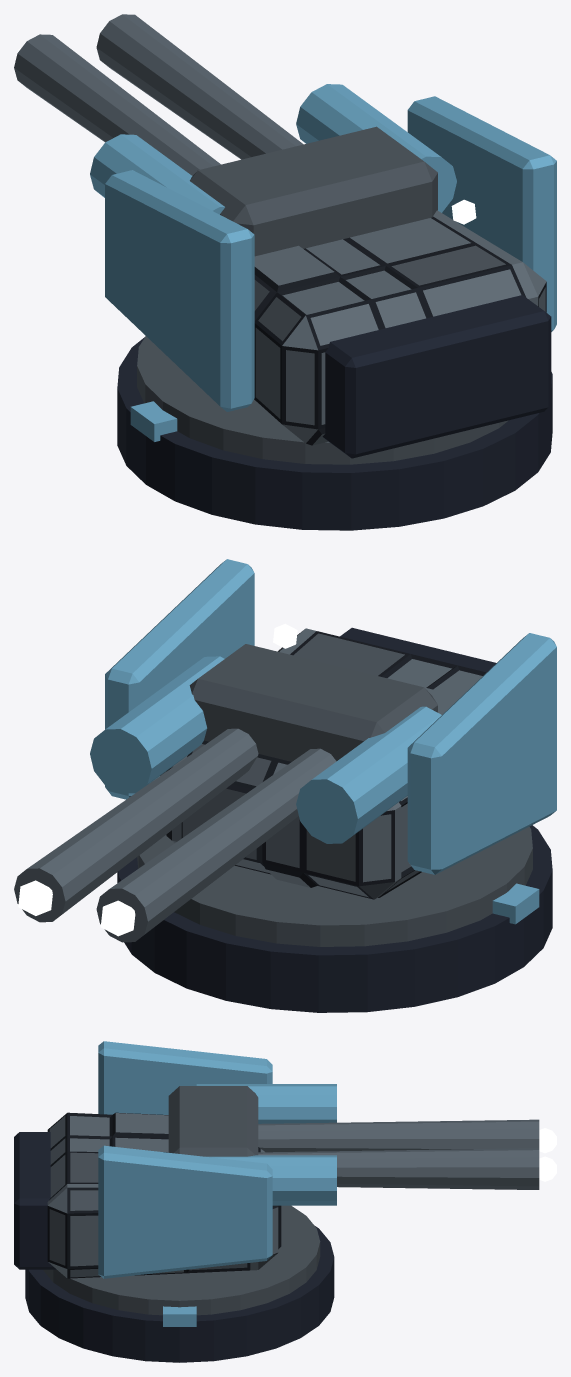
Rendered from turret_cryo_projectors.glb.
The picture shows the model from 3 angles, top to bottom: view 1: azimuth 30°, elevation 25°; view 2: azimuth 150°, elevation 25°; view 3: azimuth 270°, elevation 25°; orthographic projection. The views are drawn at different scales.
Visible parts, largest first — view 1: Yaw_mesh, Pitch_mesh, Base_mesh; view 2: Pitch_mesh, Yaw_mesh, Base_mesh; view 3: Yaw_mesh, Pitch_mesh, Base_mesh.
Boxes of the visible parts, x1,y1,x2,y2 form: Yaw_mesh: [105, 96, 556, 458]; Pitch_mesh: [14, 14, 456, 256]; Base_mesh: [117, 336, 552, 530]; Pitch_mesh: [14, 644, 441, 942]; Yaw_mesh: [105, 559, 556, 899]; Base_mesh: [117, 825, 552, 1012]; Yaw_mesh: [14, 1041, 281, 1278]; Pitch_mesh: [168, 1084, 556, 1205]; Base_mesh: [25, 1205, 334, 1362].
Bounding box in the file's own units: 1.12 × 0.7876 × 1.93.
